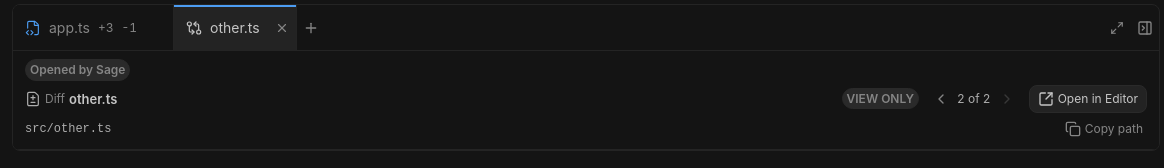
Test: Agent artifact file chips › keeps a pinned Diff and pending Preview when an agent opens a browser tab
Click the tab with aria-label "Diff src/other.ts".
click(221, 28)  # box [174,5,268,50]
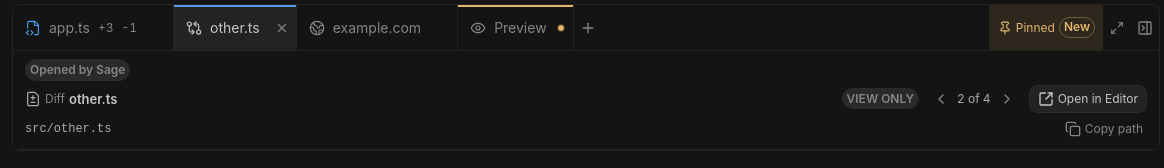
Now the button with aria-label "Pinned resource, new Preview available" is shown, box [989,5,1103,50]
